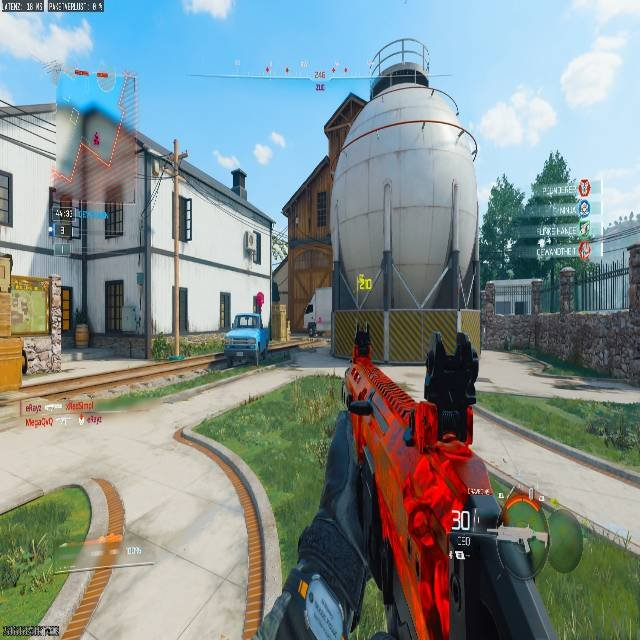head: (365, 35, 432, 96)
player: (304, 303, 317, 338)
